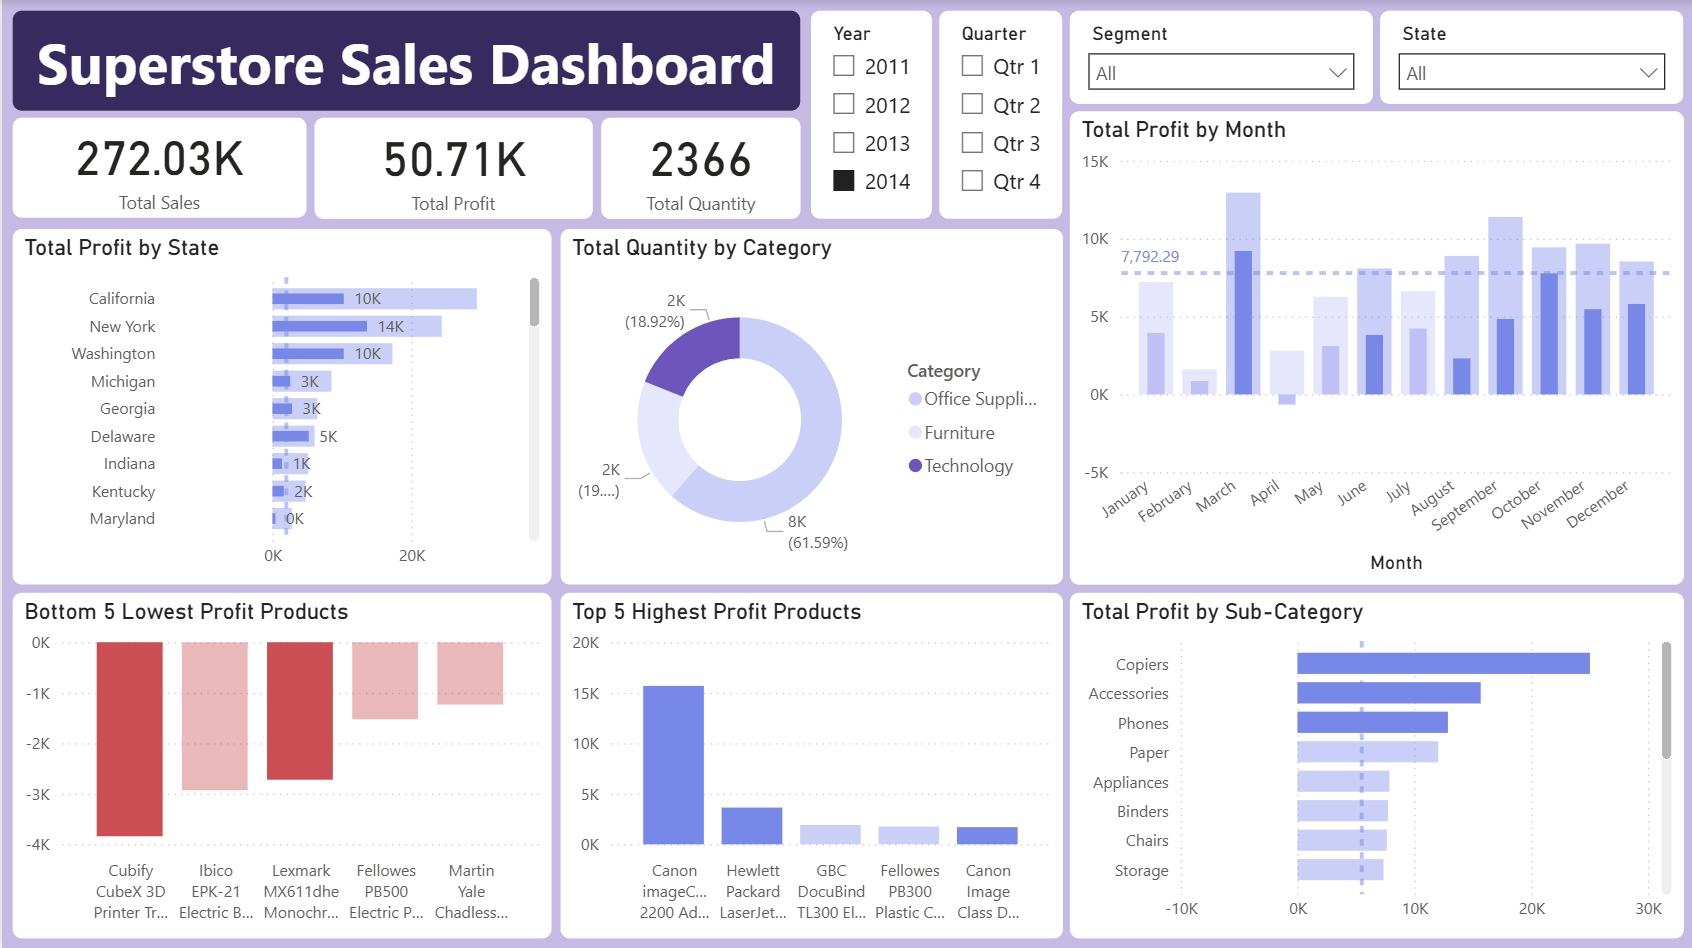

The page's visual inventory and layout, read from the dashboard file:
{"tool":"powerbi","page":{"name":"Superstore Sales Dashboard","canvas":[1280,720],"ordinal":0},"visuals":[{"type":"card","fields":{"Values":["Sum(FactSales.Sales)"]},"box":[7.8,89.6,222.3,75.8],"z":0},{"type":"card","fields":{"Values":["Sum(FactSales.Profit)"]},"box":[236.7,88.9,210.5,76.5],"z":1000},{"type":"card","fields":{"Values":["Sum(FactSales.Quantity)"]},"box":[453.1,88.9,151,76.5],"z":2000},{"type":"slicer","fields":{"Values":["FactSales.Order Date.Variation.Date Hierarchy.Year"]},"box":[612.6,7.8,91.5,157.6],"z":3000},{"type":"slicer","fields":{"Values":["FactSales.Order Date.Variation.Date Hierarchy.Quarter"]},"box":[710,7.8,92.8,157.6],"z":4000},{"type":"clusteredBarChart","title":"Total Profit by State","fields":{"Y":["Sum(FactSales.Profit)"],"Category":["DimLocation.State"]},"box":[7.8,173.3,408,269.4],"z":5000},{"type":"donutChart","title":"Total Quantity by Category","fields":{"Y":["Sum(FactSales.Quantity)"],"Category":["DimProduct.Category"]},"box":[422.4,173.3,380.5,269.4],"z":6000},{"type":"clusteredColumnChart","title":"Total Profit by Month","fields":{"Category":["FactSales.Order Date.Variation.Date Hierarchy.Month"],"Y":["Sum(FactSales.Profit)"]},"box":[808.1,84.3,464.9,358.3],"z":7000},{"type":"slicer","fields":{"Values":["FactSales.Segment"]},"box":[808.1,7.8,229.4,70.6],"z":8000},{"type":"textbox","box":[7.8,8.5,596.3,75.8],"z":9000},{"type":"clusteredBarChart","title":"Total Profit by Sub-Category","fields":{"Y":["Sum(FactSales.Profit)"],"Category":["DimProduct.Sub-Category"]},"box":[808.1,449.2,464.9,261.5],"z":10000},{"type":"slicer","fields":{"Values":["DimLocation.State"]},"box":[1043.3,7.8,229.7,70.6],"z":11000},{"type":"clusteredColumnChart","title":"Top 5 Highest Profit Products","fields":{"Y":["Sum(FactSales.Profit)"],"Category":["DimProduct.Product Name"]},"box":[422.4,449.2,380.5,261.5],"z":12000},{"type":"clusteredColumnChart","title":"Bottom 5 Lowest Profit Products","fields":{"Y":["Sum(FactSales.Profit)"],"Category":["DimProduct.Product Name"]},"box":[7.8,449.2,408,261.5],"z":13000}]}

Visuals, with their boxes in screenshot pixels (x1, y1, x2, y2), scaled from the page's 1280x720 canvas onto the 1692x948 screenshot:
card - Sum(FactSales.Sales): rect(10, 118, 304, 218)
card - Sum(FactSales.Profit): rect(313, 117, 591, 218)
card - Sum(FactSales.Quantity): rect(599, 117, 799, 218)
slicer - FactSales.Order Date.Variation.Date Hierarchy.Year: rect(810, 10, 931, 218)
slicer - FactSales.Order Date.Variation.Date Hierarchy.Quarter: rect(939, 10, 1061, 218)
"Total Profit by State" clusteredBarChart: rect(10, 228, 550, 583)
"Total Quantity by Category" donutChart: rect(558, 228, 1061, 583)
"Total Profit by Month" clusteredColumnChart: rect(1068, 111, 1683, 583)
slicer - FactSales.Segment: rect(1068, 10, 1371, 103)
textbox: rect(10, 11, 799, 111)
"Total Profit by Sub-Category" clusteredBarChart: rect(1068, 591, 1683, 936)
slicer - DimLocation.State: rect(1379, 10, 1683, 103)
"Top 5 Highest Profit Products" clusteredColumnChart: rect(558, 591, 1061, 936)
"Bottom 5 Lowest Profit Products" clusteredColumnChart: rect(10, 591, 550, 936)
